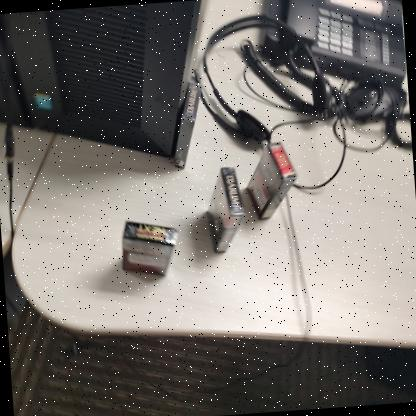bungkus rokok: (238, 136, 302, 229), (190, 162, 251, 258), (115, 211, 186, 281)
